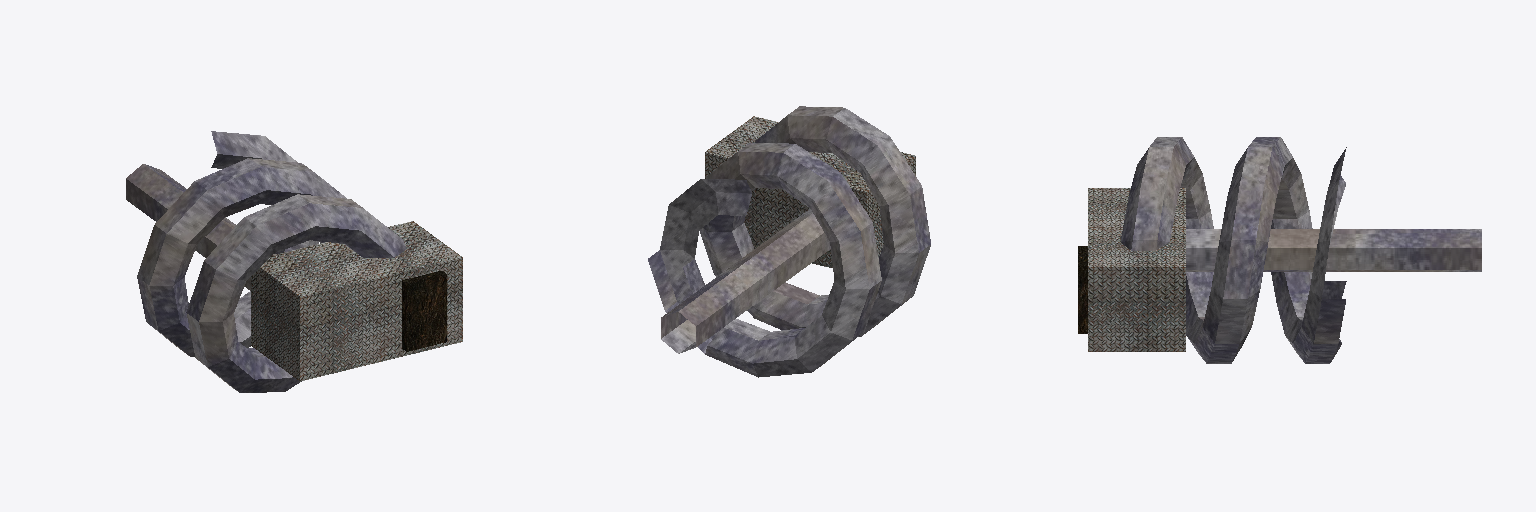
3 views of the same model, side by side, from view 1: azimuth 30°, elevation 25°; view 2: azimuth 150°, elevation 25°; view 3: azimuth 270°, elevation 25° (orthographic).
Visible parts, largest first — view 1: Circle; view 2: Circle; view 3: Circle.
Part boxes in pixels (bbox=[...]): Circle: bbox=[126, 131, 462, 392]; Circle: bbox=[648, 106, 930, 377]; Circle: bbox=[1078, 137, 1481, 363].
Size of the model in its own units: 2.58 by 2.31 by 4.1.
Materials: 3 (3 with a texture image).